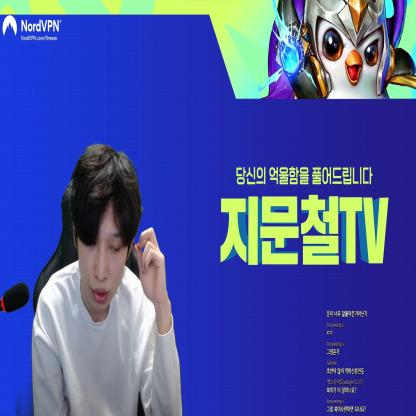streamer: (32, 144, 182, 416)
